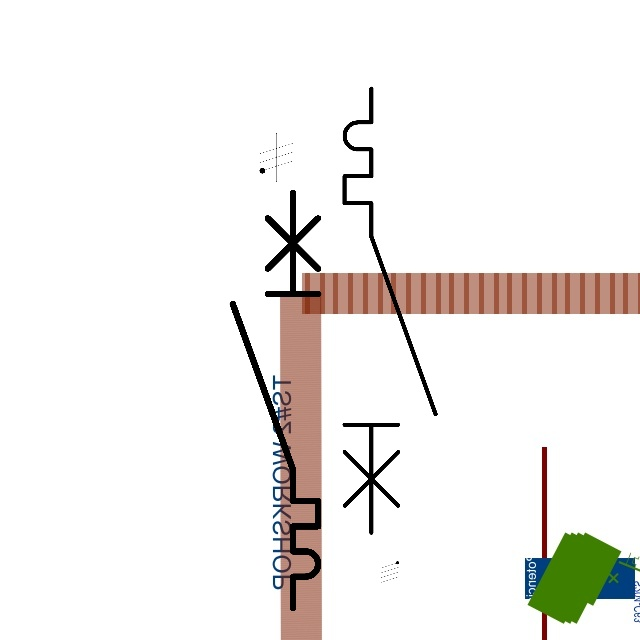interruptor_termomagnetico: (333, 77, 447, 544), (222, 182, 329, 619)
